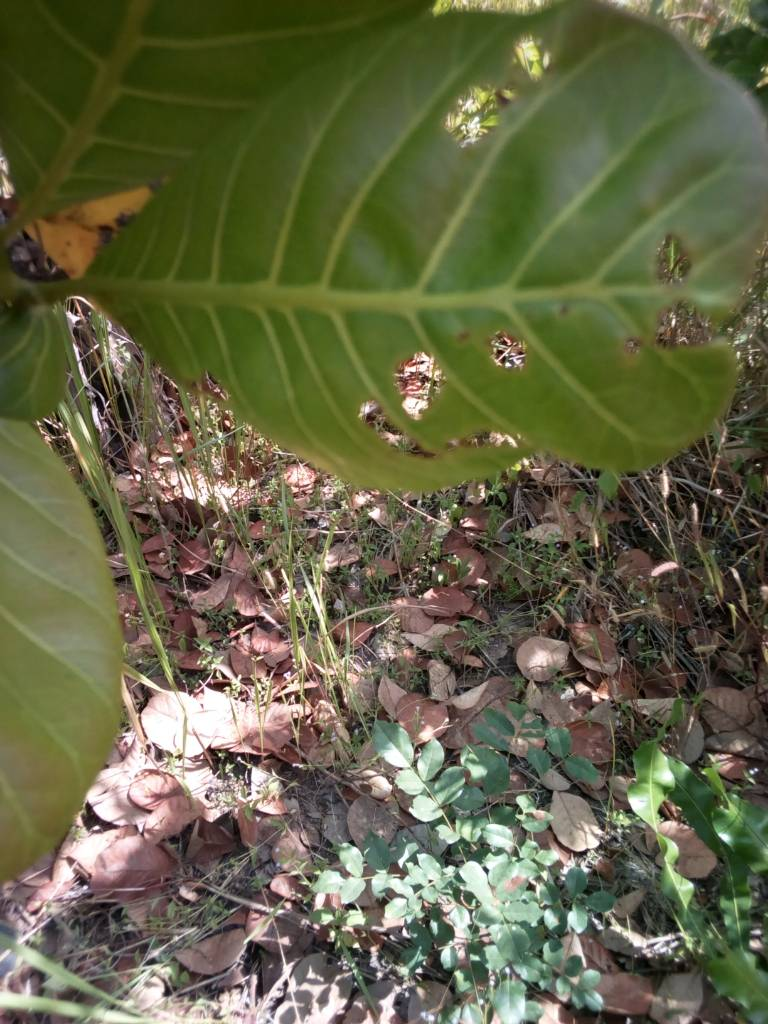Anoplonemis curvipes: (238, 44, 752, 463)
